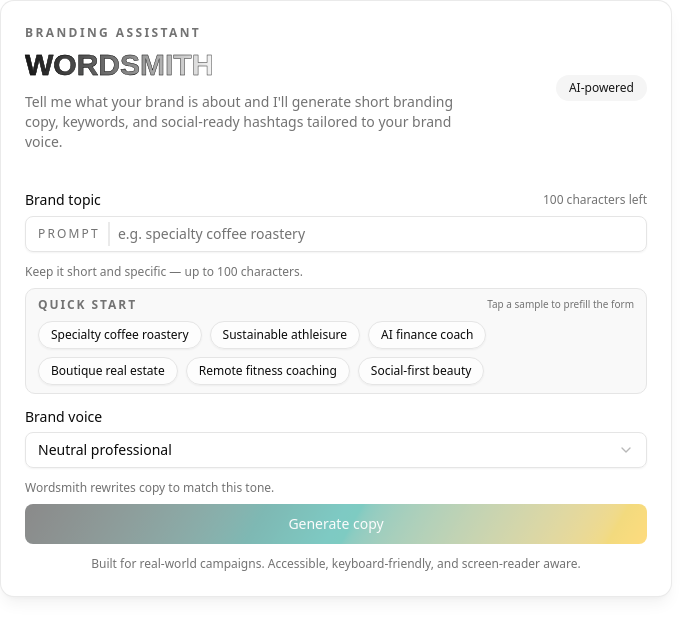
Test case: WordsmithCard Integration › prefills from sample prompt
The image size is (689, 617).
Step 1. Click the button "Specialty coffee roastery" → {"x": 120, "y": 334}, box [38,320,202,348]
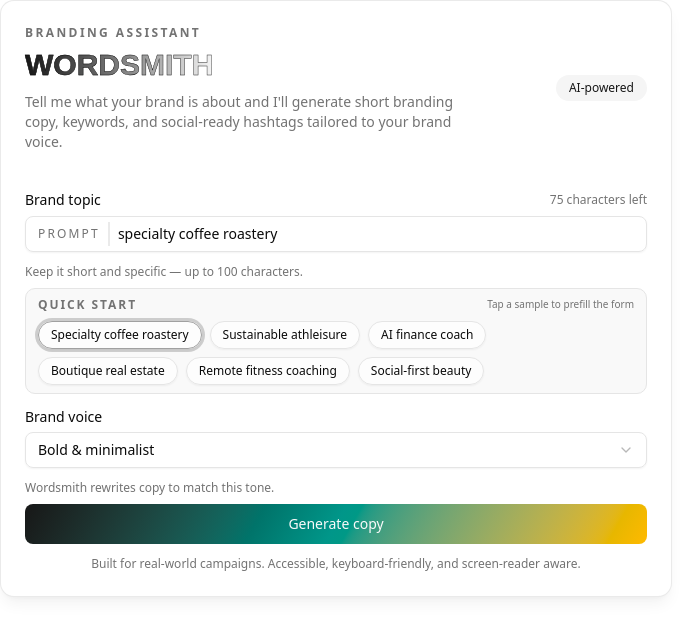
Now the field with placeholder "e.g. specialty coffee roastery" holds "specialty coffee roastery", box [110,216,646,252]
Now the button "Generate copy" is enabled, box [25,504,647,544]
